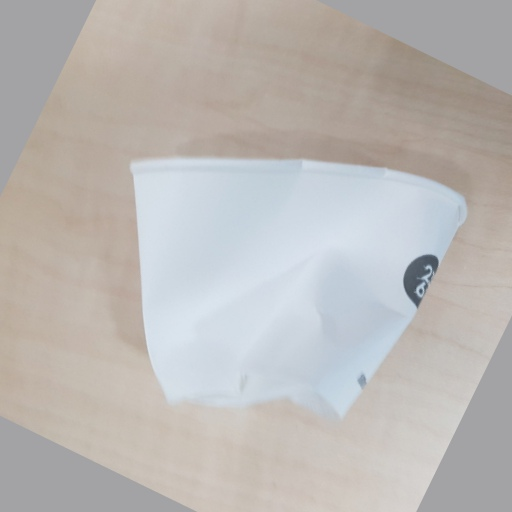Paper_1: (131, 153, 467, 426)
